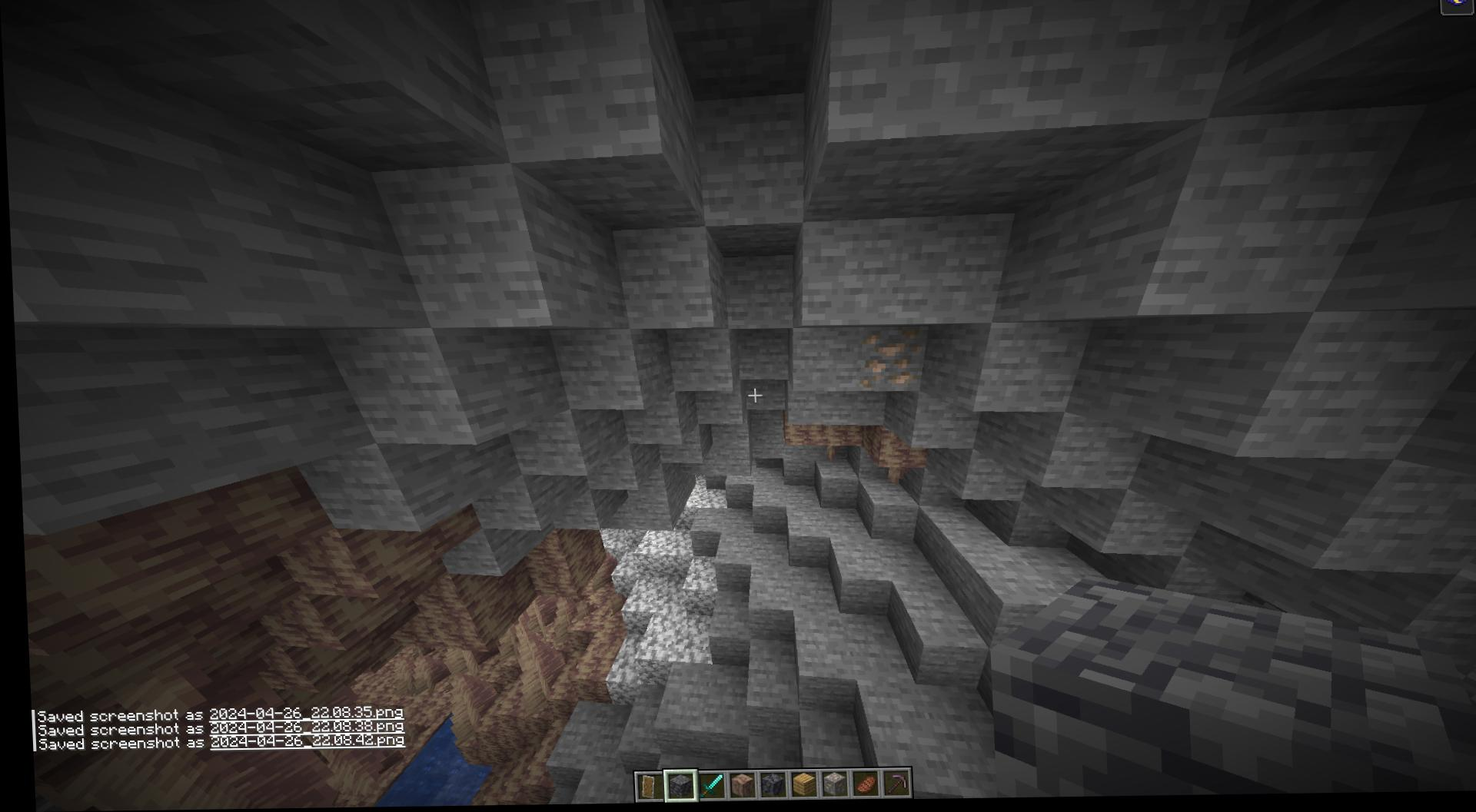iron ore: (852, 330, 929, 392)
